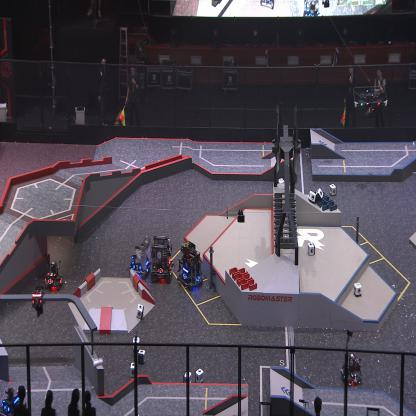car: (177, 238, 205, 289), (149, 233, 175, 282), (127, 235, 152, 279), (0, 382, 27, 416), (340, 351, 362, 386), (44, 260, 64, 292)
